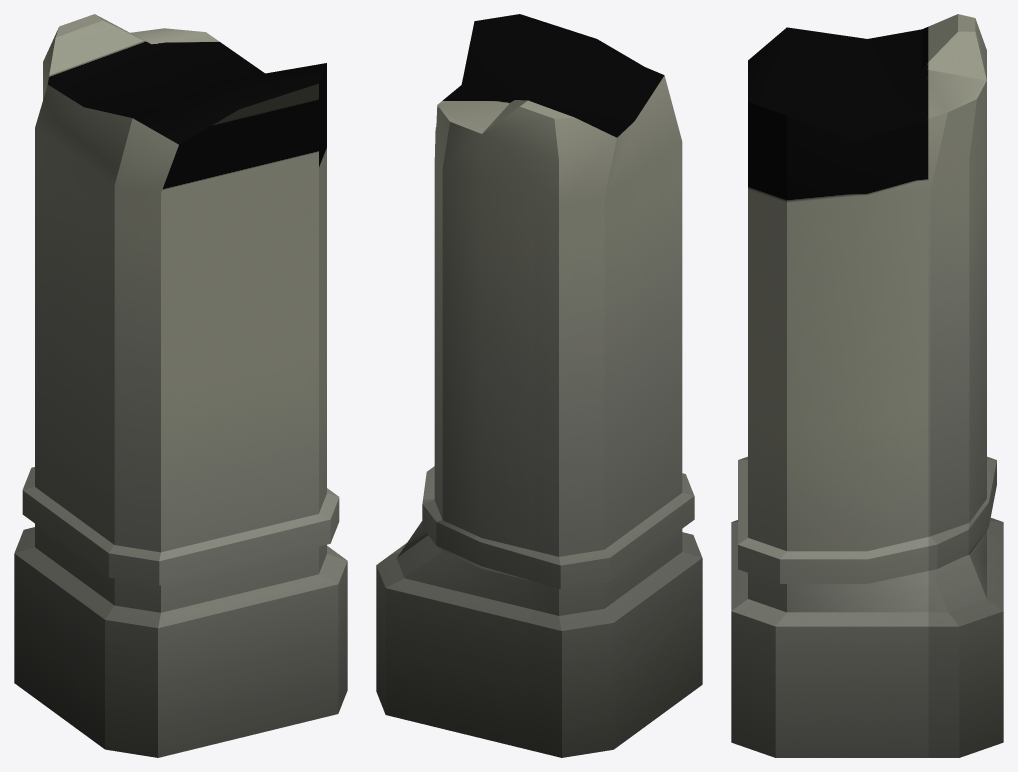
File: ruin04.fbx
3 views of the same model, side by side, from view 1: azimuth 30°, elevation 25°; view 2: azimuth 150°, elevation 25°; view 3: azimuth 270°, elevation 25° (orthographic). The views are drawn at different scales.
Visible parts, largest first — view 1: ruin04; view 2: ruin04; view 3: ruin04.
Boxes of the visible parts, x1,y1,x2,y2 form: ruin04: (14, 14, 347, 757); ruin04: (376, 14, 702, 757); ruin04: (731, 14, 1003, 757).
Bounding box in the file's own units: 1.34 × 3.42 × 1.29.
